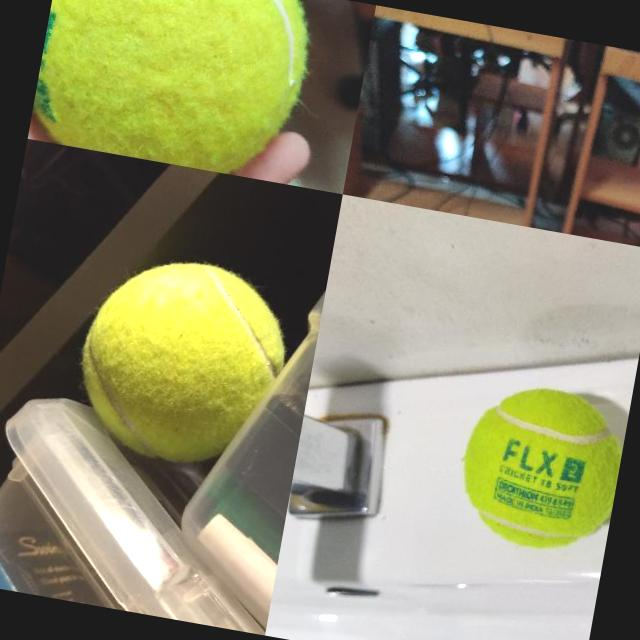Tennis Ball: (27, 0, 316, 182), (72, 240, 269, 430), (446, 376, 630, 562)
